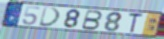5: (22, 5, 41, 26)
8: (103, 11, 123, 33), (62, 9, 81, 29)
B: (80, 9, 104, 31)
D: (38, 6, 63, 28)
T: (128, 12, 145, 34)
